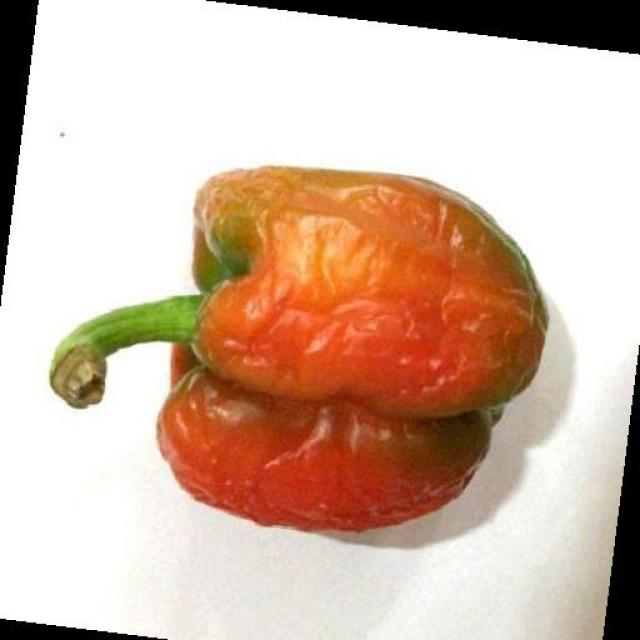Stale_Capsicum: (71, 140, 590, 564)
